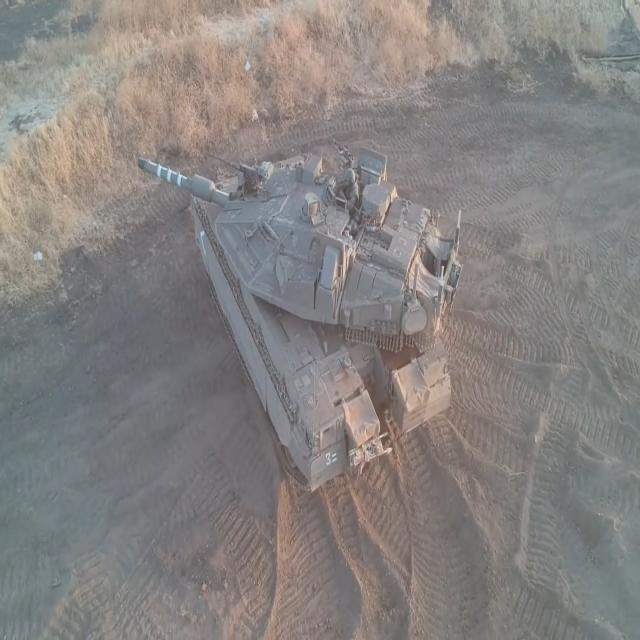tank: (132, 137, 466, 489)
